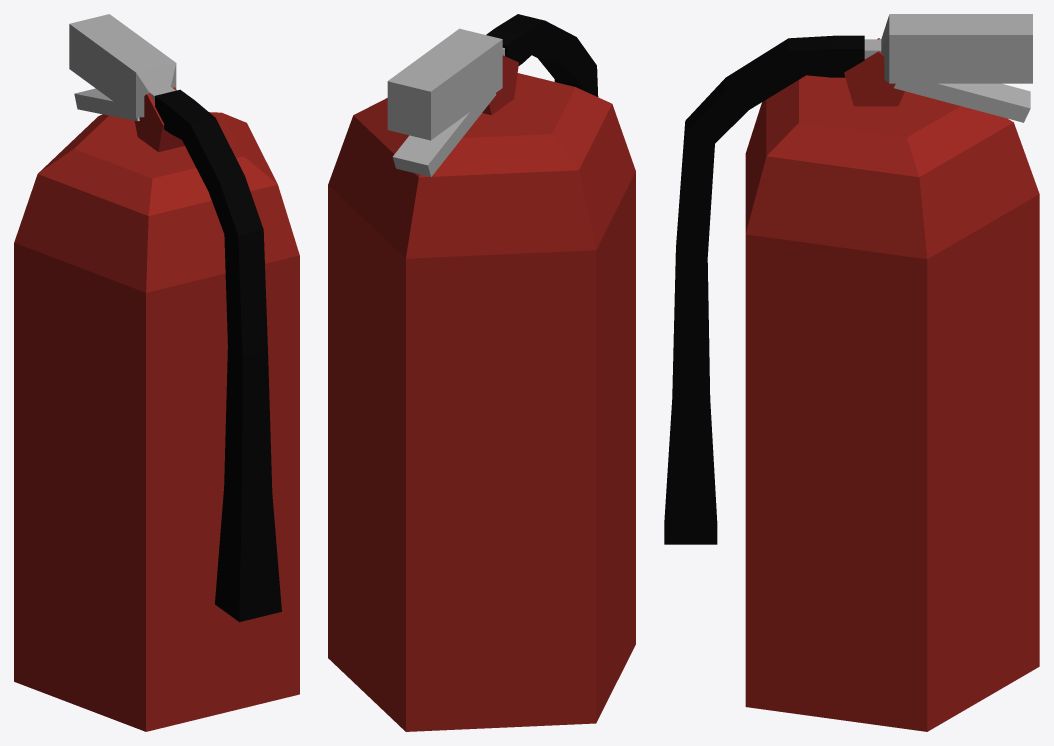
The model's file is FireExtinguisher.dae.
The picture shows the model from 3 angles, left to right: view 1: azimuth 30°, elevation 25°; view 2: azimuth 150°, elevation 25°; view 3: azimuth 270°, elevation 25°; orthographic projection. The views are drawn at different scales.
Visible parts, largest first — view 1: Cylinder, Cube; view 2: Cylinder, Cube; view 3: Cylinder, Cube.
Boxes of the visible parts, left/top/right/bottom form: Cylinder: left=14, top=87, right=299, bottom=731; Cube: left=69, top=14, right=281, bottom=621; Cylinder: left=328, top=55, right=635, bottom=731; Cube: left=387, top=14, right=598, bottom=176; Cylinder: left=745, top=38, right=1039, bottom=731; Cube: left=664, top=14, right=1032, bottom=544.
Size of the model in its own units: 1.02 by 1.24 by 2.35.
